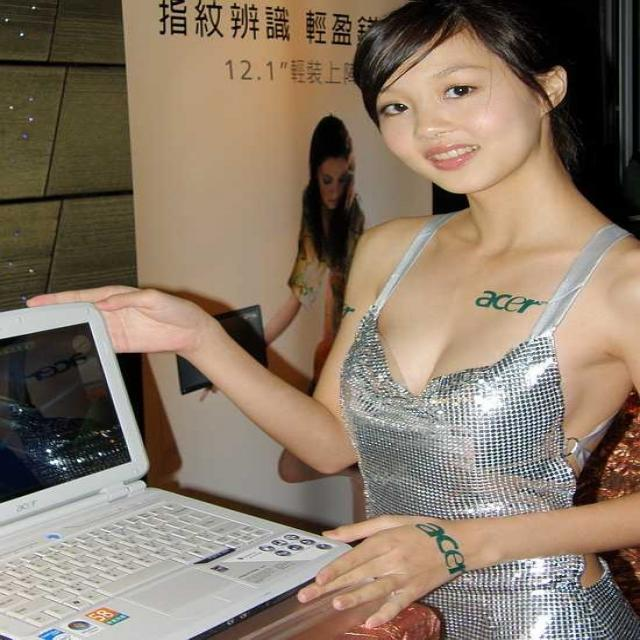laptop: (0, 284, 360, 640)
